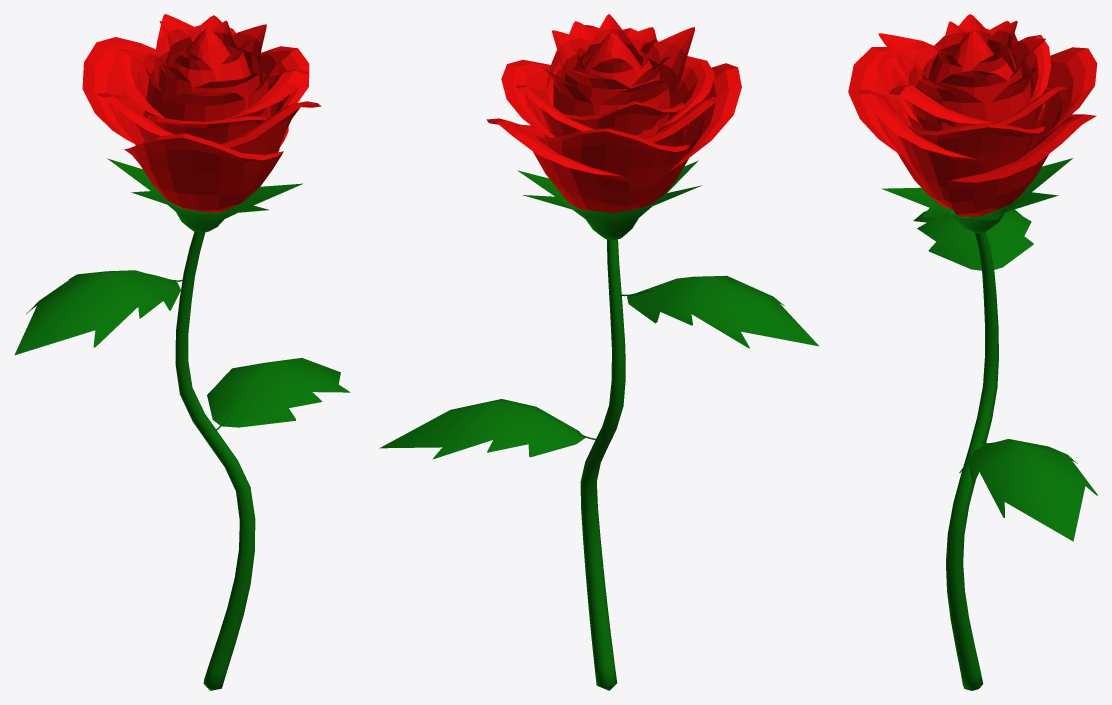
File: rosa1.fbx
The picture shows the model from 3 angles, left to right: view 1: azimuth 30°, elevation 25°; view 2: azimuth 150°, elevation 25°; view 3: azimuth 270°, elevation 25°; orthographic projection.
Visible parts, largest first — view 1: Petals, Fulles, Tija, Capoll; view 2: Petals, Fulles, Tija, Capoll; view 3: Petals, Fulles, Tija, Capoll.
Boxes of the visible parts, x1,y1,x2,y2 form: Petals: (82, 14, 321, 212); Fulles: (14, 270, 350, 429); Tija: (175, 231, 255, 690); Capoll: (107, 149, 302, 232); Petals: (486, 14, 741, 213); Fulles: (379, 275, 819, 459); Tija: (580, 239, 625, 690); Capoll: (517, 160, 701, 239); Petals: (848, 14, 1097, 216); Fulles: (913, 209, 1097, 541); Tija: (946, 216, 998, 690); Capoll: (881, 153, 1073, 233).
Bounding box in the file's own units: 65.84 × 108 × 37.28.
